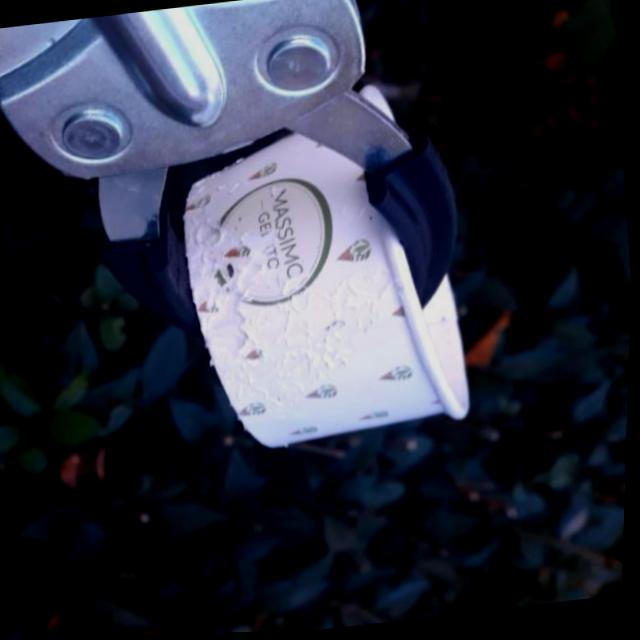Paper: (163, 67, 493, 463)
